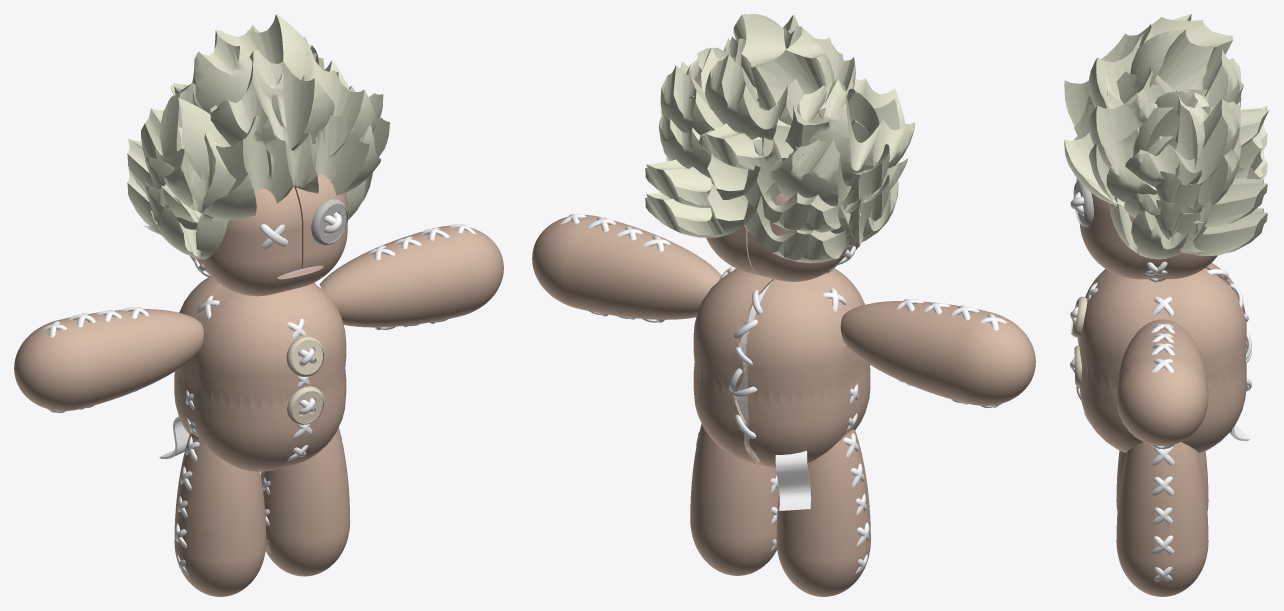
File: backrooms_entity_34_dollfaces_wikidot.glb
3 renders of one model, left to right at view 1: azimuth 30°, elevation 25°; view 2: azimuth 150°, elevation 25°; view 3: azimuth 270°, elevation 25°, orthographic. The views are drawn at different scales.
Parts seen in each view (by area): view 1: Object_3, Object_5, Object_2, Object_4, Object_7; view 2: Object_3, Object_5, Object_2, Object_6; view 3: Object_3, Object_5, Object_2, Object_4, Object_7.
Boxes of the visible parts, box(x1,y1,x2,y2) form: Object_3: box(14, 174, 503, 596); Object_5: box(127, 14, 389, 259); Object_2: box(41, 212, 475, 575); Object_4: box(286, 336, 324, 424); Object_7: box(311, 198, 348, 245); Object_3: box(532, 193, 1035, 596); Object_5: box(645, 14, 915, 263); Object_2: box(560, 213, 1007, 574); Object_6: box(775, 450, 811, 510); Object_3: box(1079, 192, 1246, 596); Object_5: box(1064, 14, 1269, 259); Object_2: box(1070, 178, 1251, 581); Object_4: box(1070, 296, 1087, 386); Object_7: box(1073, 180, 1093, 226).
Bounding box in the file's own units: 181 × 200 × 66.93.
